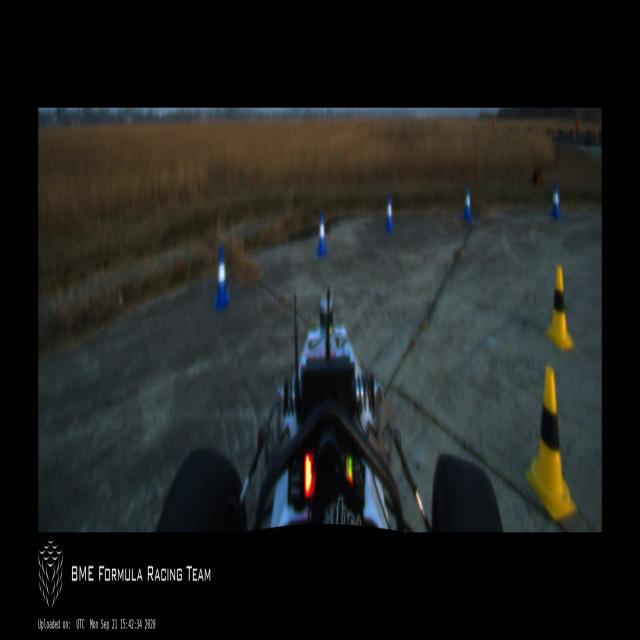blue_cone: (213, 245, 230, 313), (316, 210, 328, 255), (551, 179, 562, 219), (385, 192, 394, 232), (463, 186, 473, 220)
yellow_cone: (526, 365, 578, 518), (544, 266, 574, 349)
